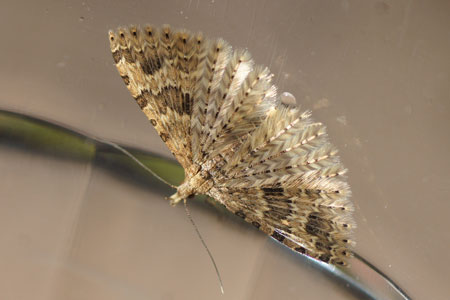Alucitidae: (23, 19, 363, 290)
moth: (21, 17, 361, 288)
